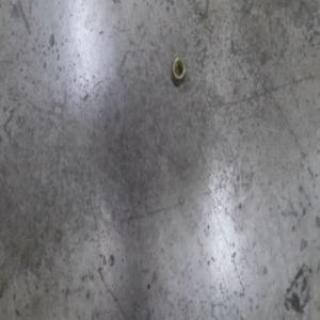Nuttrack_idkeyframe: (170, 54, 186, 88)
